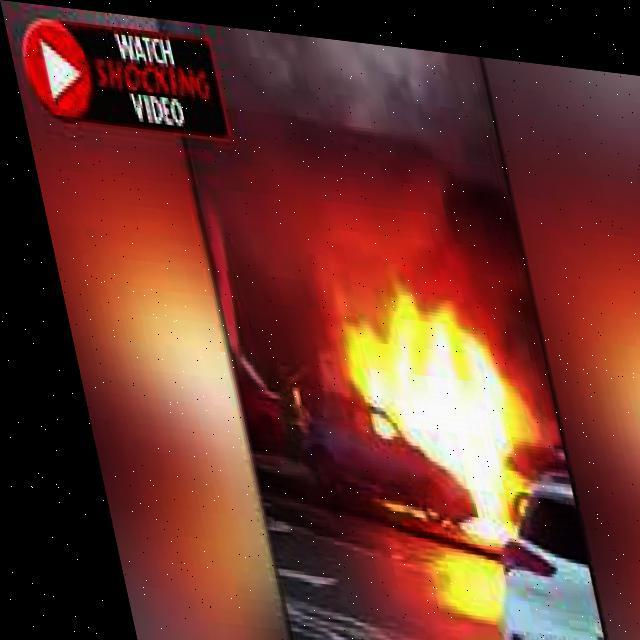Fire: (318, 266, 541, 544)
